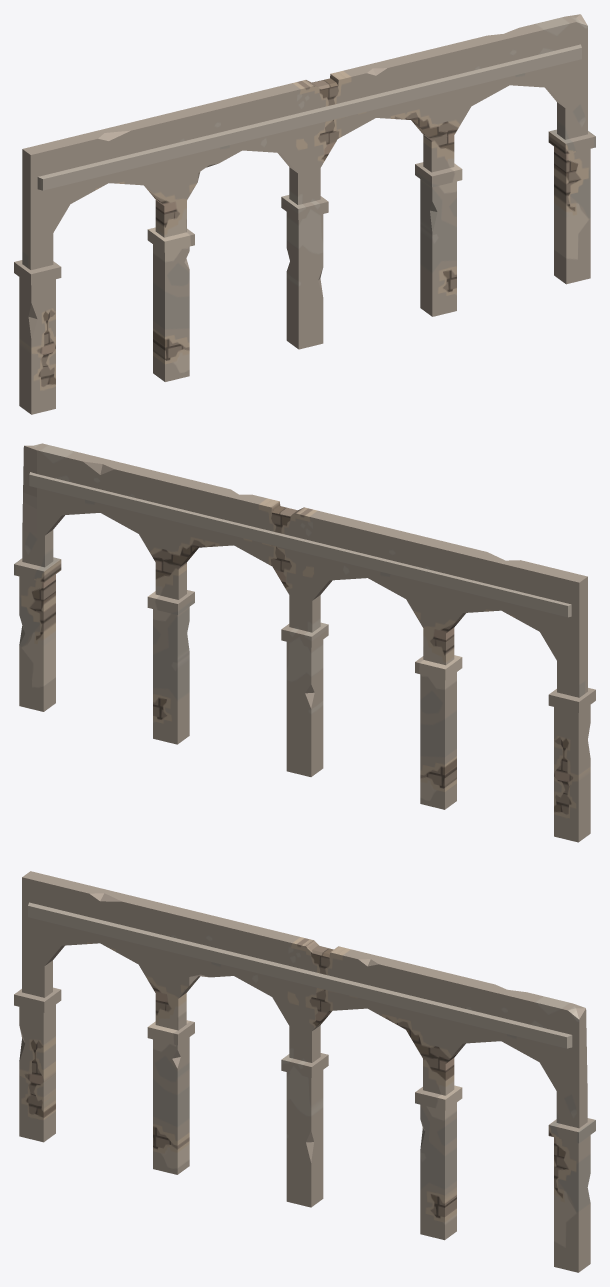
Rendered from SM_Bld_Village_Archway_02.glb.
The picture shows the model from 3 angles, top to bottom: view 1: azimuth 30°, elevation 25°; view 2: azimuth 150°, elevation 25°; view 3: azimuth 330°, elevation 25°; orthographic projection.
Parts seen in each view (by area): view 1: SM_Bld_Village_Archway_02; view 2: SM_Bld_Village_Archway_02; view 3: SM_Bld_Village_Archway_02.
Part boxes in pixels (left/top/right/bottom): SM_Bld_Village_Archway_02: left=14, top=14, right=595, bottom=414; SM_Bld_Village_Archway_02: left=14, top=443, right=595, bottom=842; SM_Bld_Village_Archway_02: left=14, top=871, right=595, bottom=1272.
Size of the model in its own units: 9.7 by 4.23 by 0.5021.
Materials: 1 (1 with a texture image).
